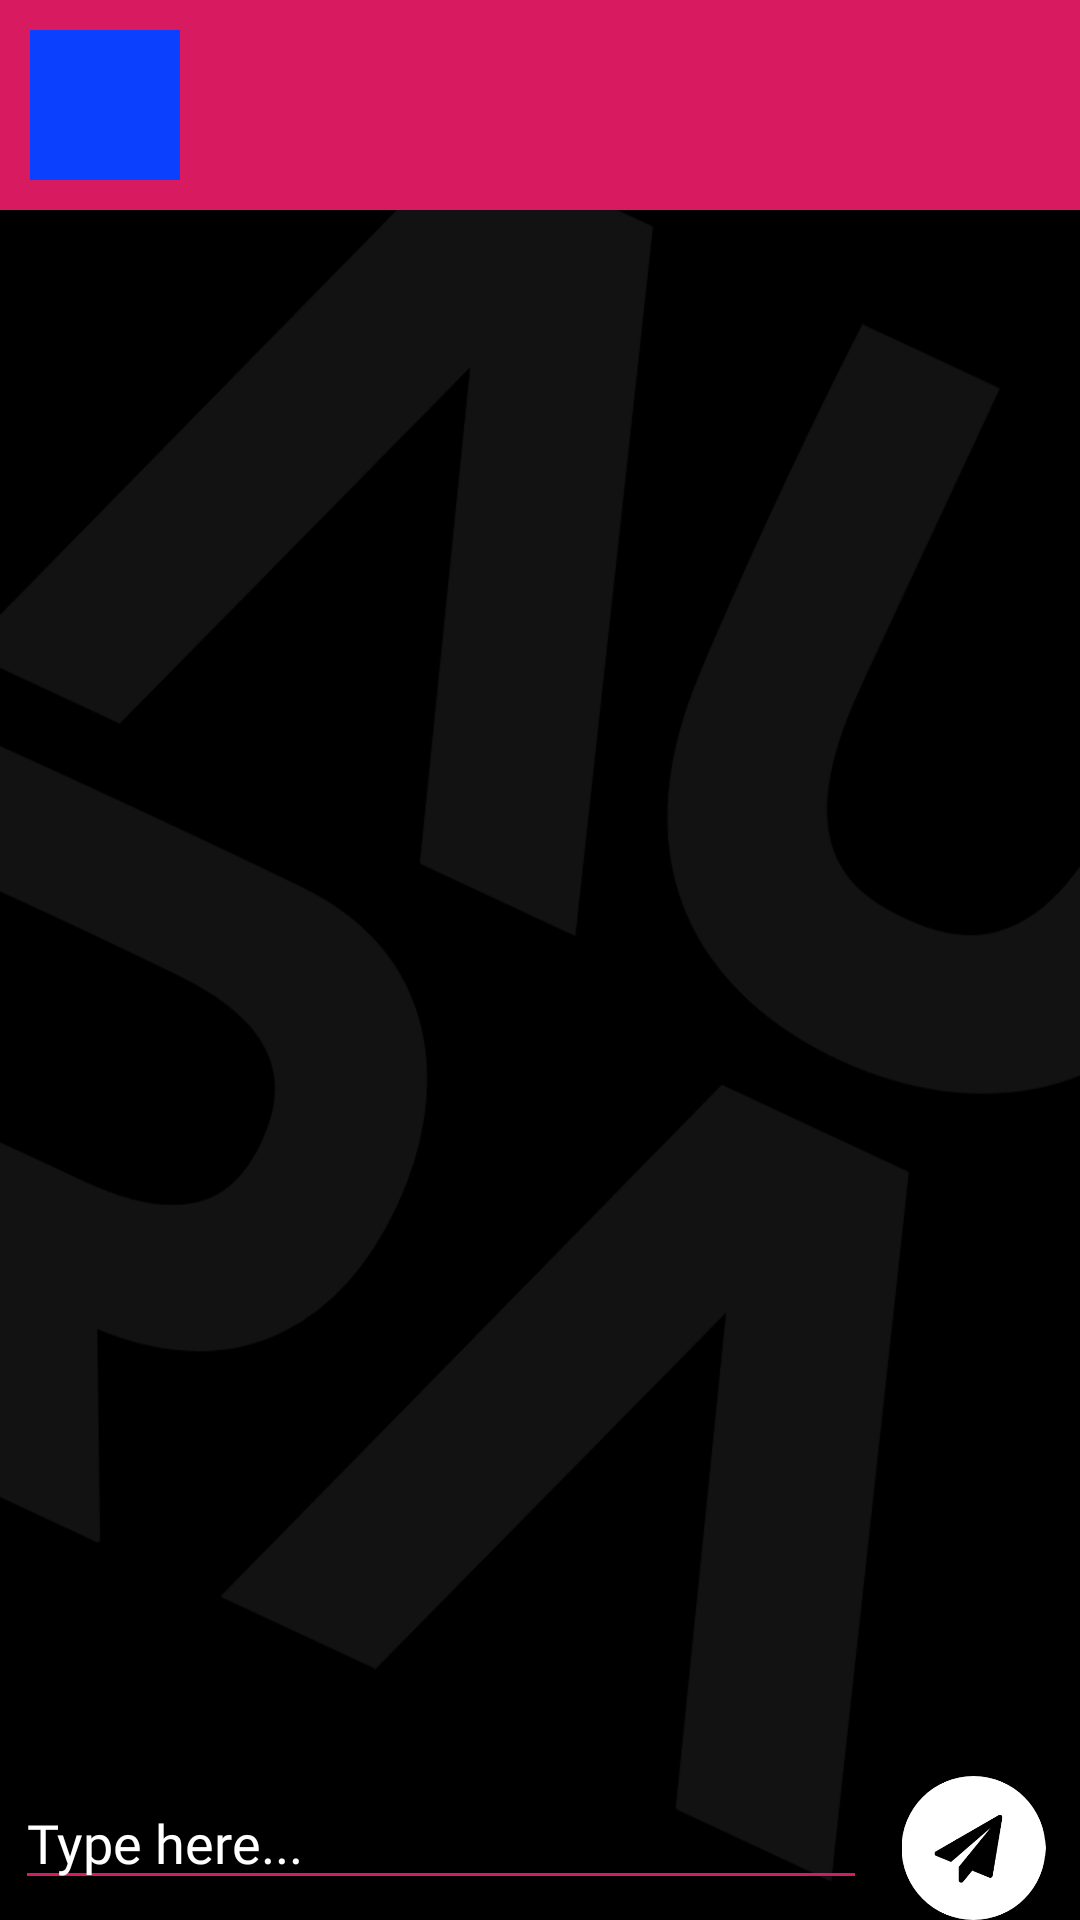

Locate icon controls on the screen. Image size 1080×1920, boxes as (x1, y1, x2, y2).
send: (902, 1776, 1046, 1920)
